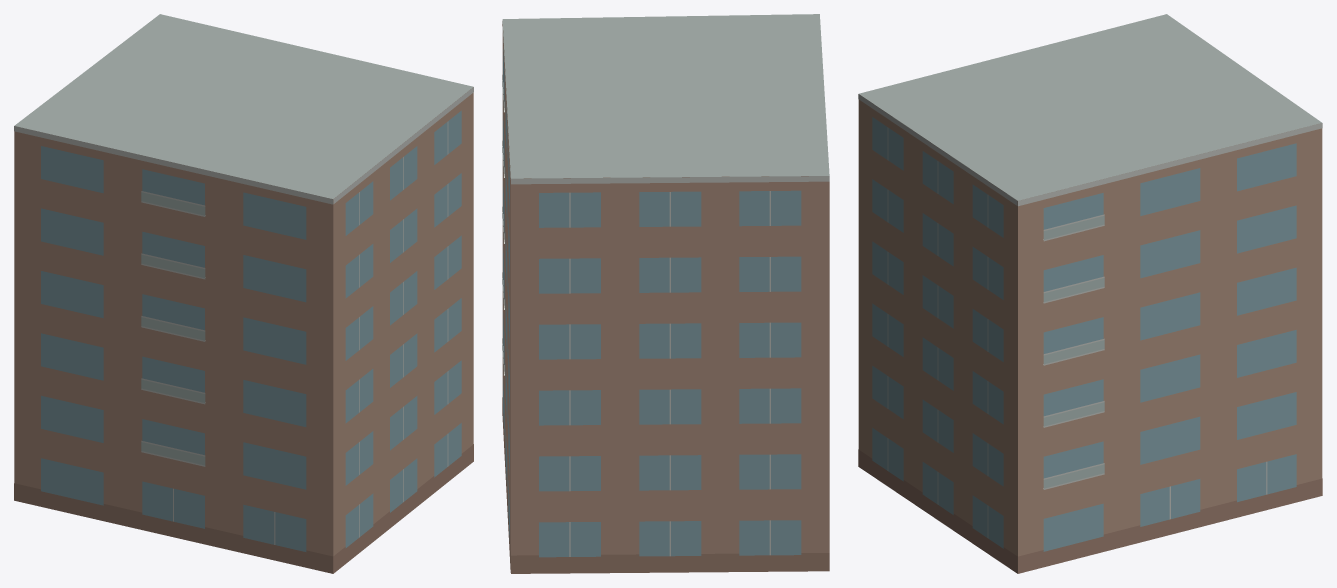
The model's file is survey-upis-32760847.glb.
The picture shows the model from 3 angles, left to right: view 1: azimuth 30°, elevation 25°; view 2: azimuth 150°, elevation 25°; view 3: azimuth 270°, elevation 25°; orthographic projection. The views are drawn at different scales.
Visible parts, largest first — view 1: survey-upis-32760847.tmp; view 2: survey-upis-32760847.tmp; view 3: survey-upis-32760847.tmp.
Boxes of the visible parts, x1,y1,x2,y2 form: survey-upis-32760847.tmp: [14, 14, 473, 573]; survey-upis-32760847.tmp: [502, 14, 829, 573]; survey-upis-32760847.tmp: [858, 14, 1322, 573].
Size of the model in its own units: 18.01 by 16.75 by 18.89.
